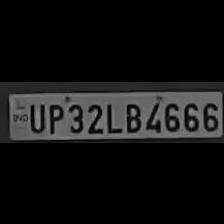2: (84, 100, 104, 134)
3: (64, 100, 84, 132)
4: (142, 97, 162, 132)
6: (161, 98, 179, 132), (181, 98, 199, 132), (200, 98, 218, 132)
B: (121, 99, 141, 133)
L: (103, 99, 119, 133)
P: (46, 100, 64, 134)
U: (26, 100, 44, 132)
